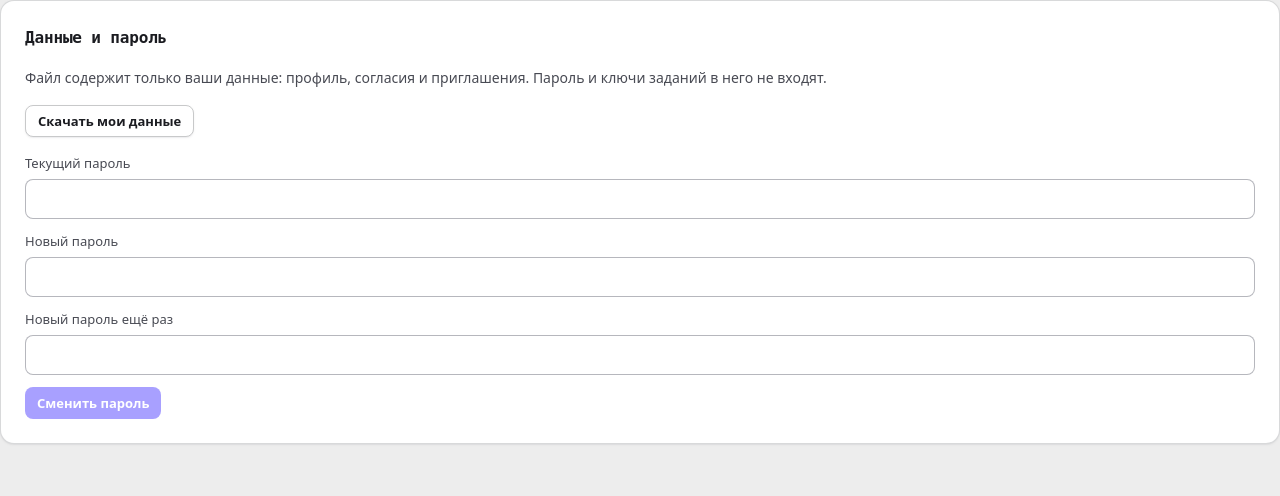
Test: пароль аккаунта › демо-аккаунт получает нейтральное сообщение, не ошибку
Type "old-pass" into the password field labelled "Текущий пароль" at [640, 199], box [25,179,1255,219]
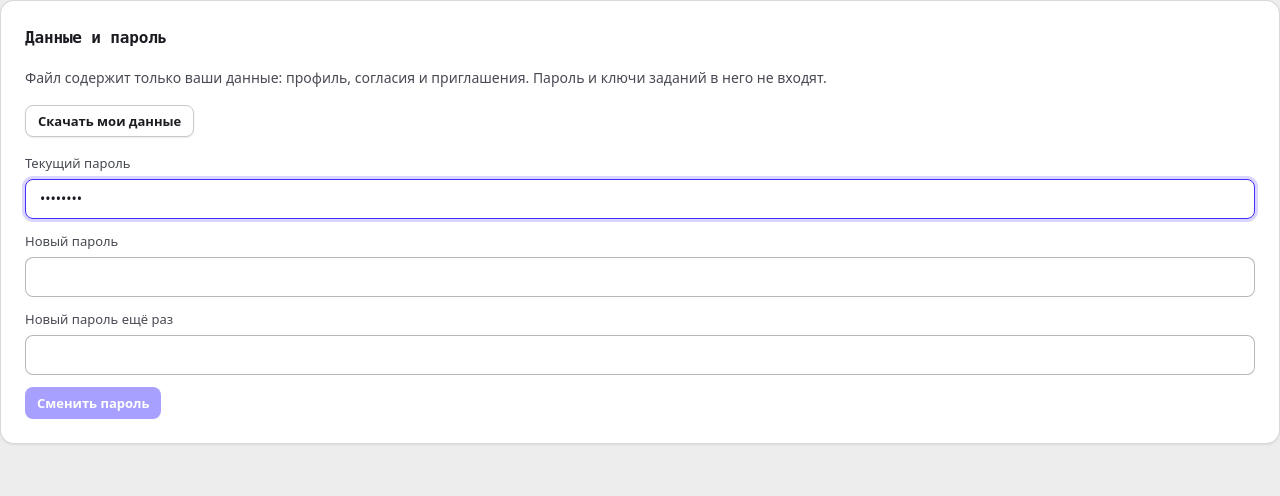
Type "new-pass-1" into the password field labelled "Новый пароль" at [640, 277], box [25,257,1255,297]
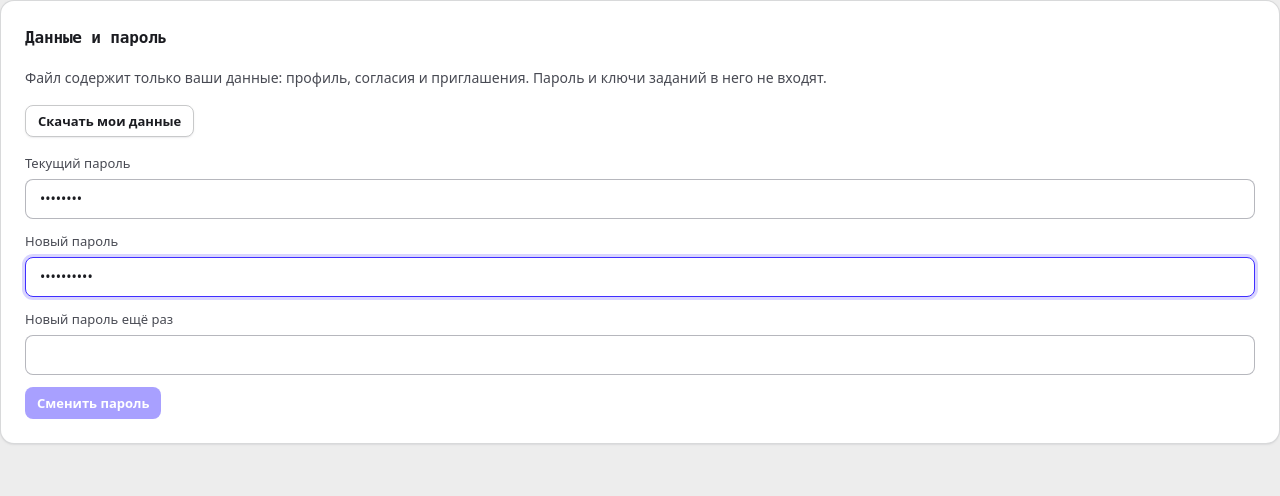
Type "new-pass-1" into the password field labelled "Новый пароль ещё раз" at [640, 355], box [25,335,1255,375]
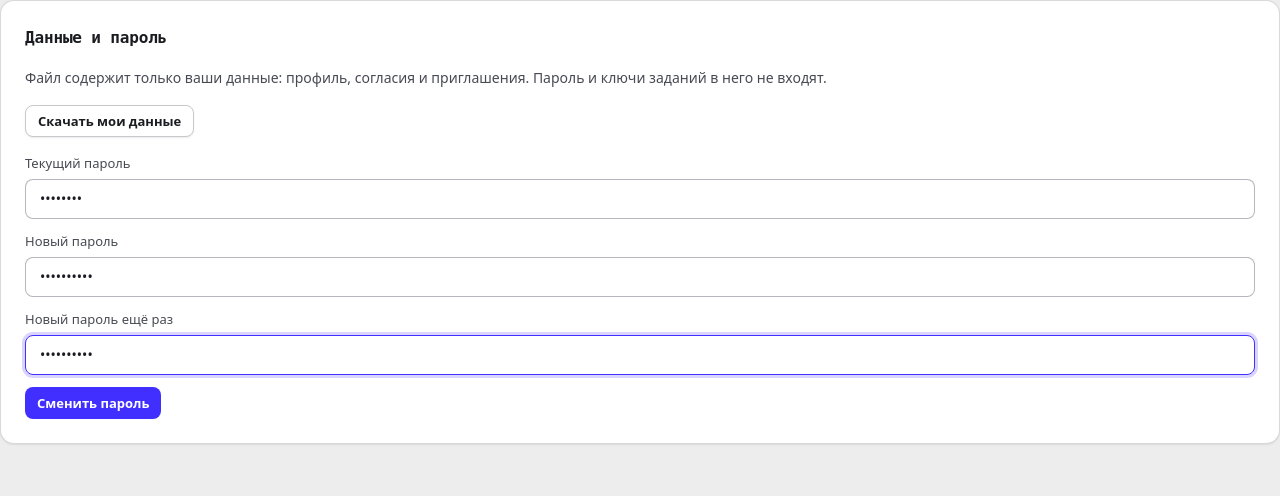
Click the button "Сменить пароль" at [93, 403], box [25,387,161,419]
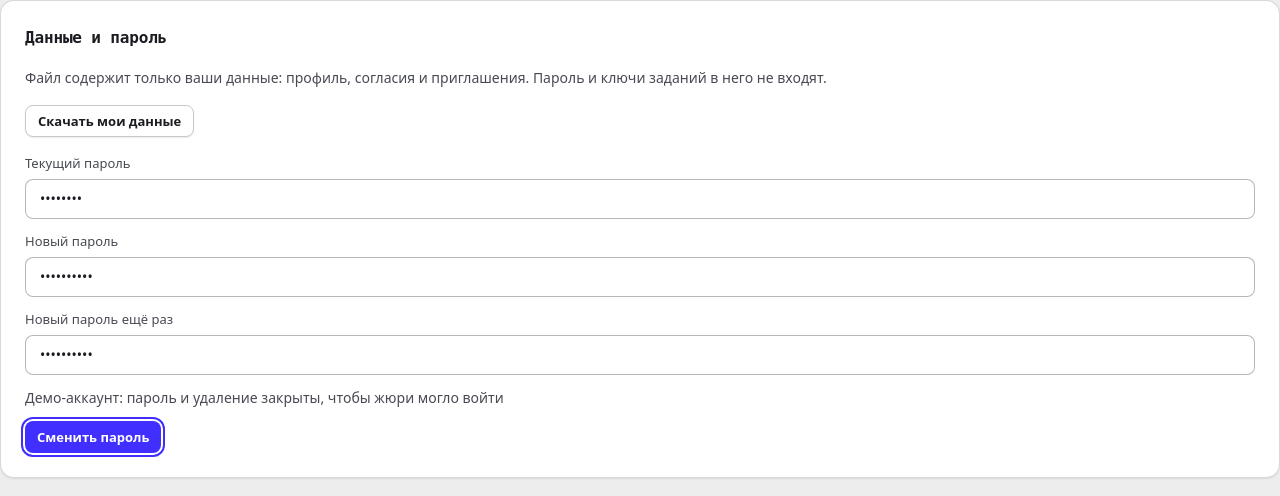
Now the message shows "Демо-аккаунт: пароль и удаление закрыты", box [25,388,504,407]
